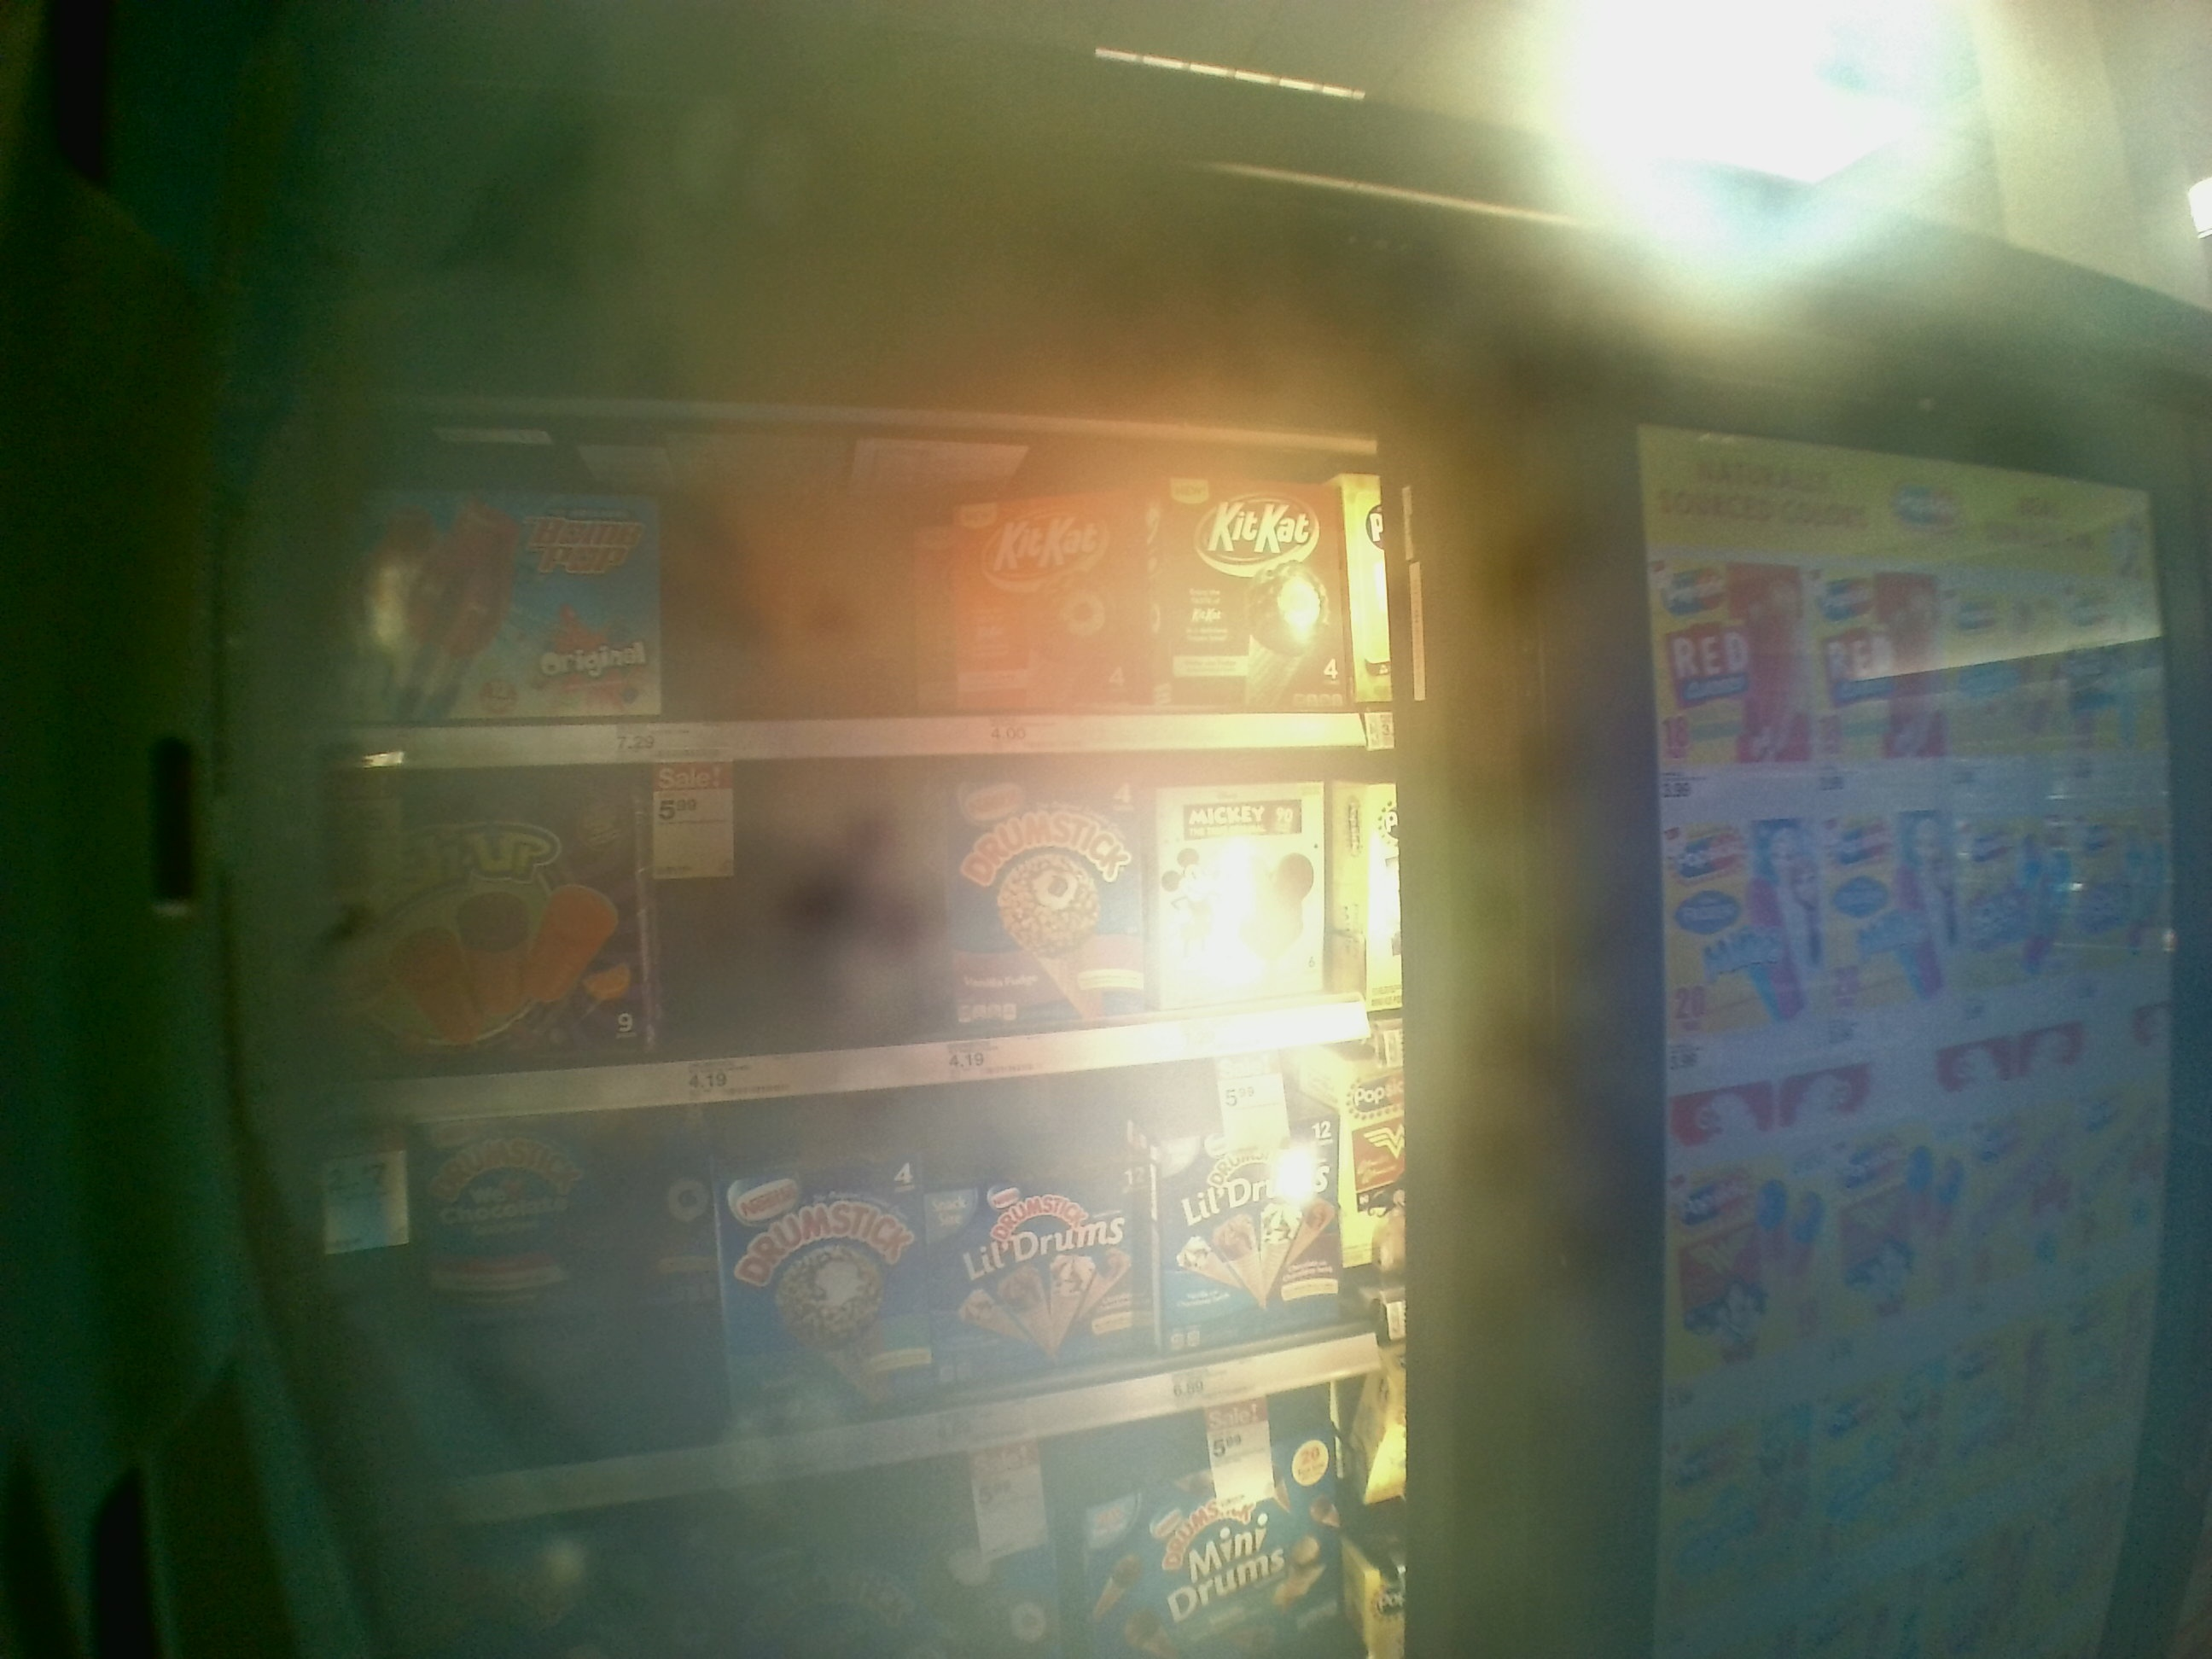shelf: (324, 1042, 1413, 1525), (324, 737, 1428, 1129), (329, 396, 1400, 769)
